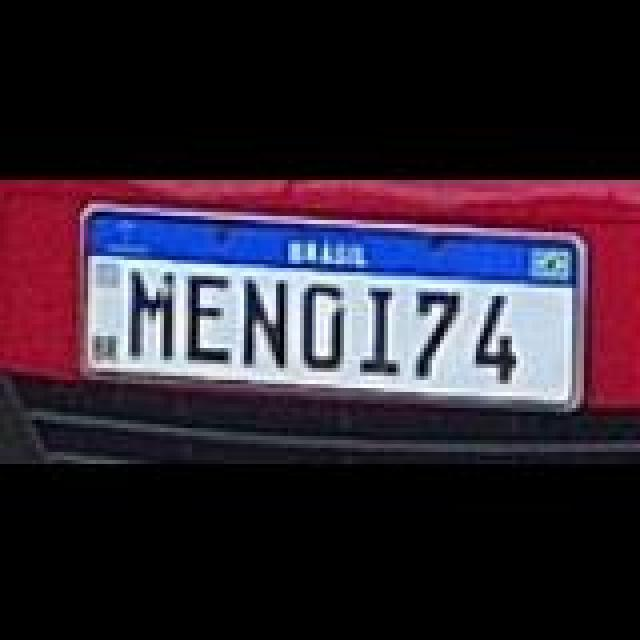4: (466, 286, 526, 378)
7: (404, 288, 468, 376)
D: (296, 280, 360, 368)
E: (176, 270, 240, 362)
I: (350, 284, 410, 372)
M: (124, 266, 188, 358)
N: (234, 274, 302, 366)
